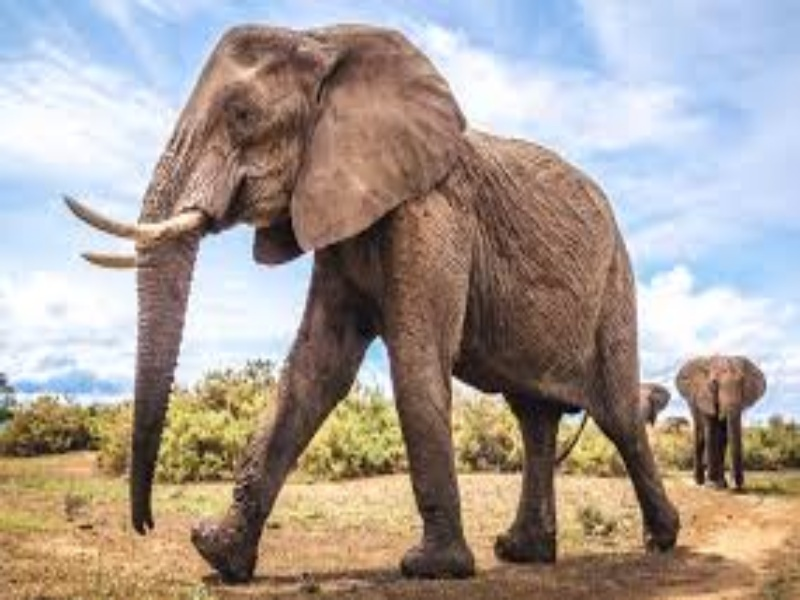elephant: (56, 20, 716, 565)
